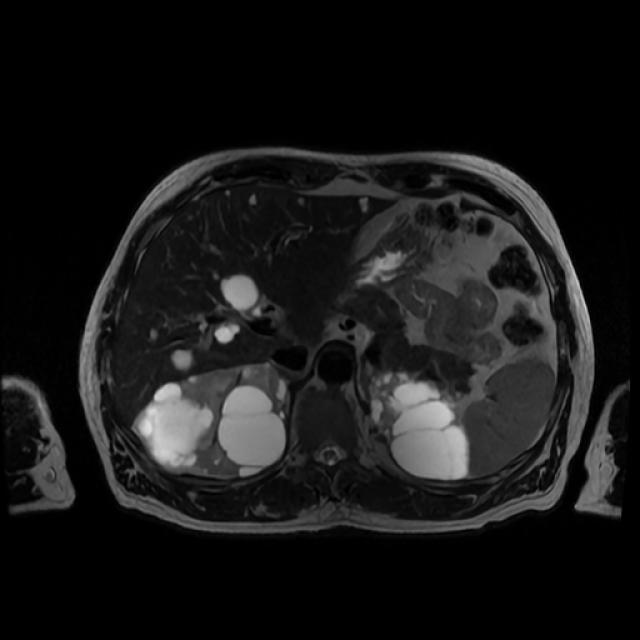sag: (136, 365, 290, 478)
sol: (372, 372, 471, 480)
